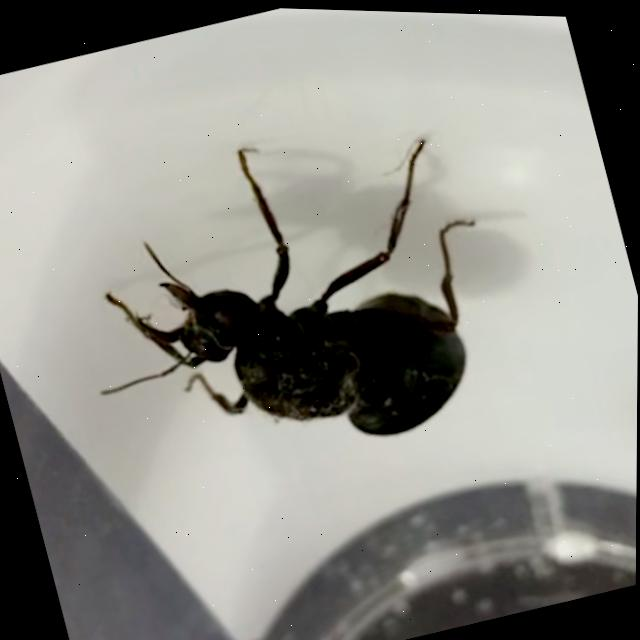Alive-Female-Dealate: (48, 89, 525, 507)
